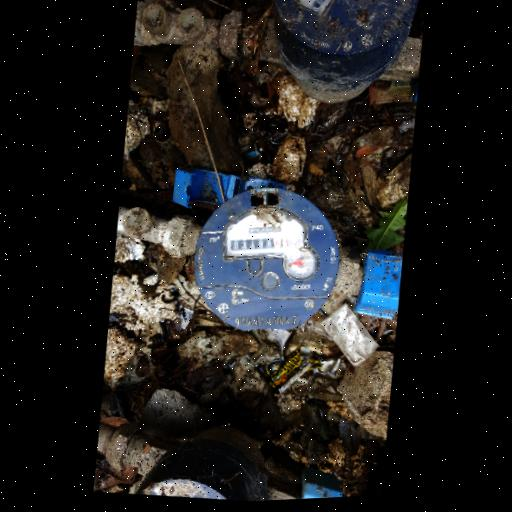0: (231, 239, 240, 251)
1: (247, 238, 256, 250)
3: (281, 236, 291, 248), (239, 239, 248, 251)
6: (264, 237, 273, 249), (273, 237, 282, 249)
9: (256, 237, 265, 250)
border_water_meter_number: (225, 224, 305, 262)
